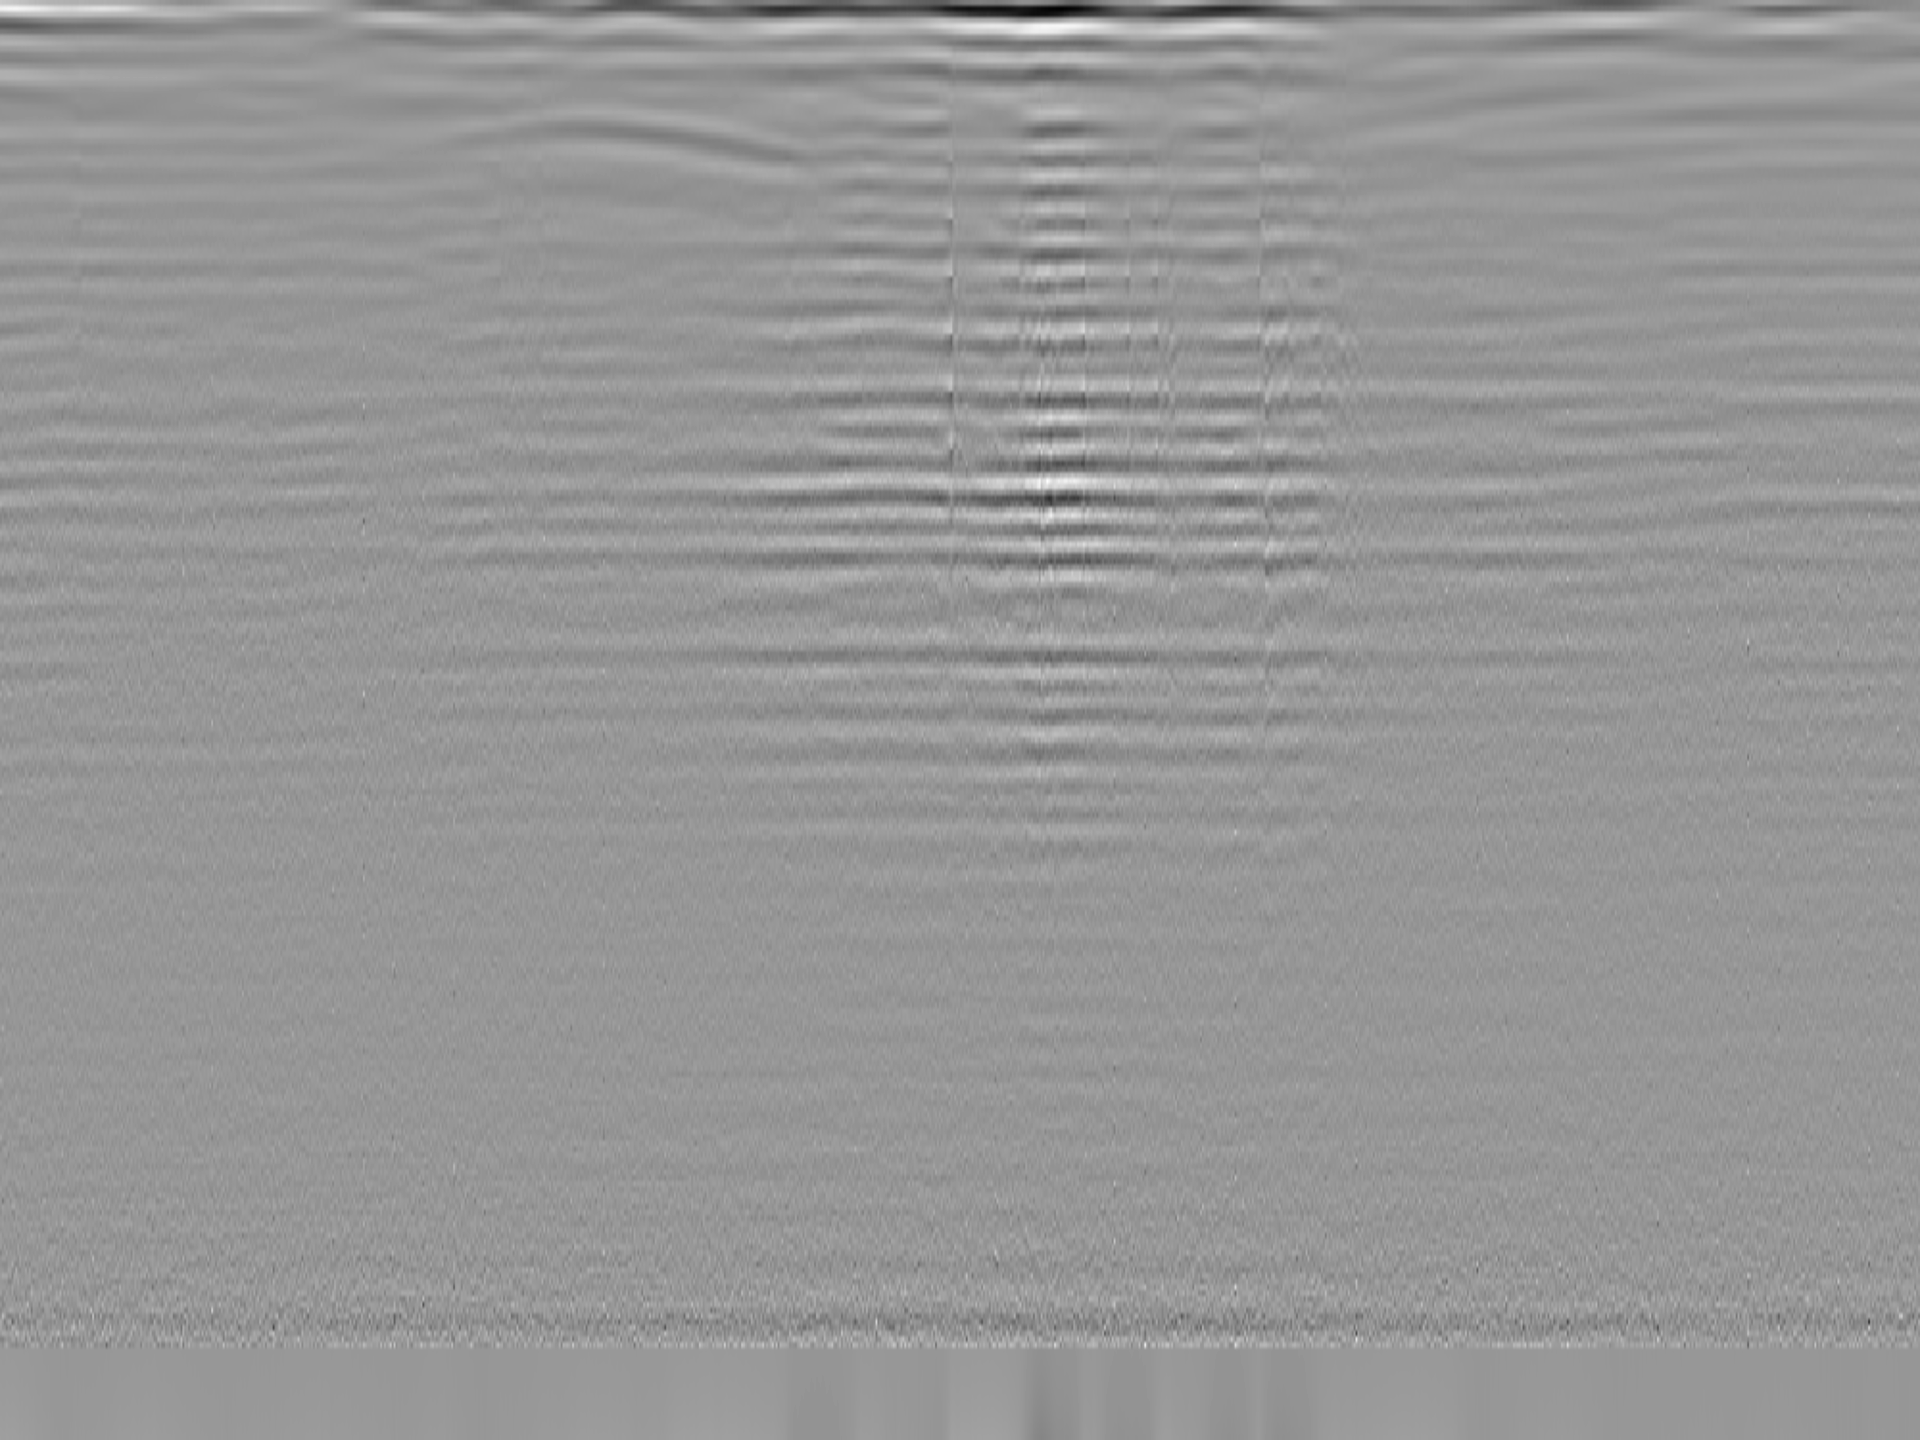Tunnel: (343, 106, 863, 169)
